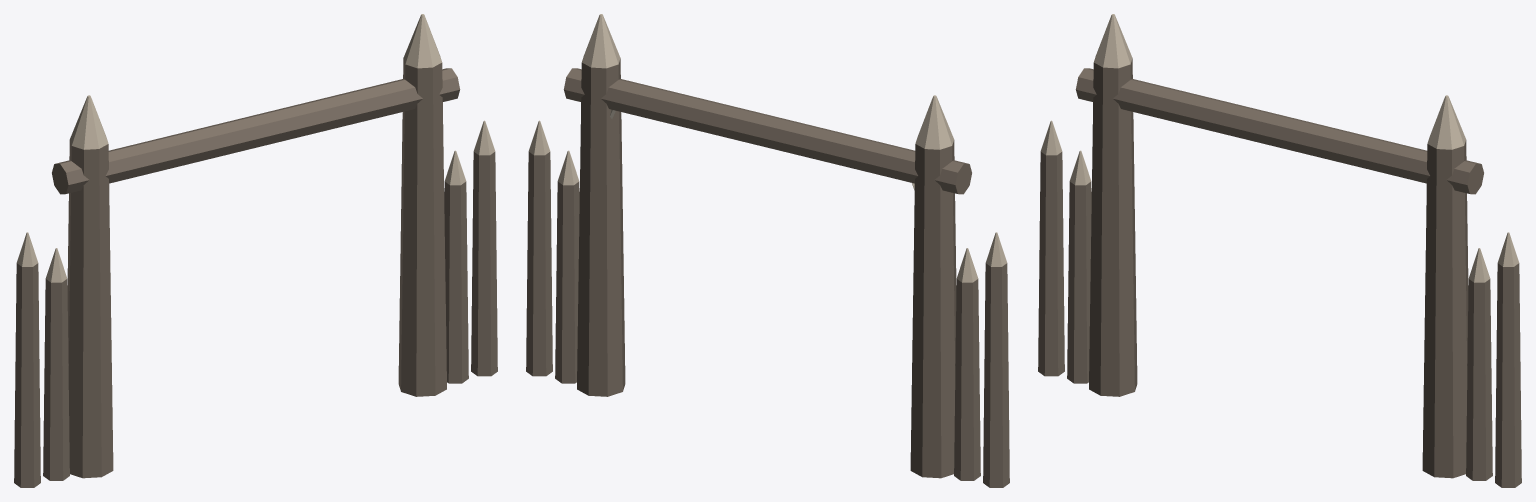
File: palisade_gate.gltf
3 renders of one model, left to right at view 1: azimuth 30°, elevation 25°; view 2: azimuth 150°, elevation 25°; view 3: azimuth 330°, elevation 25°, orthographic.
Parts seen in each view (by area): view 1: Body; view 2: Body; view 3: Body.
Part boxes in pixels (x1,y1,x2,y2): Body: (14, 14, 497, 487); Body: (526, 14, 1009, 487); Body: (1038, 14, 1521, 487).
Bounding box in the file's own units: 6.58 × 4.9 × 0.6.
